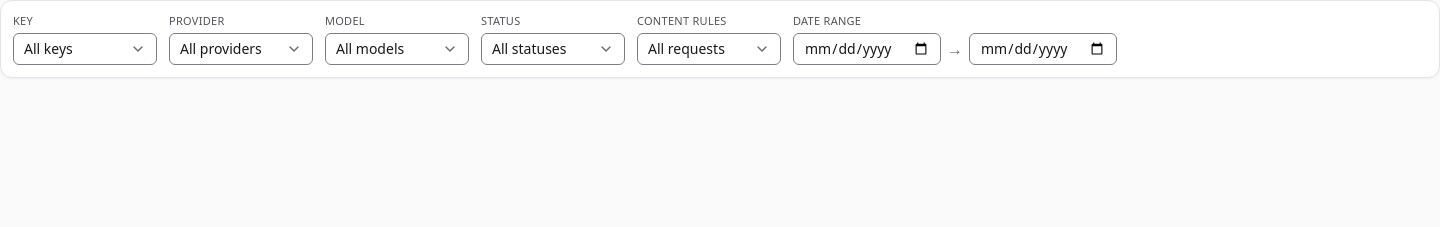
Test: a blocked request (stopped before any provider call) › can be filtered for
What coordinates should you click on to do the following:
click the dropdown named "Status: All statuses"
I would click on:
 (553, 49)
Its box is 481,33 -> 625,65.
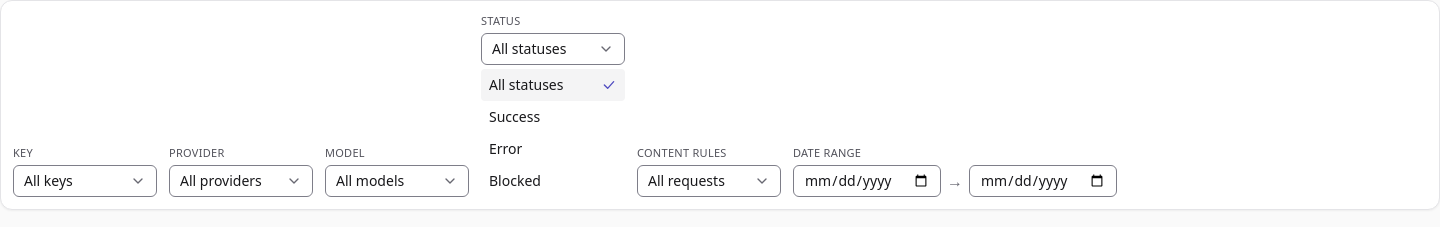
Check: the text "Blocked" is shown, box 489,171 -> 541,191
